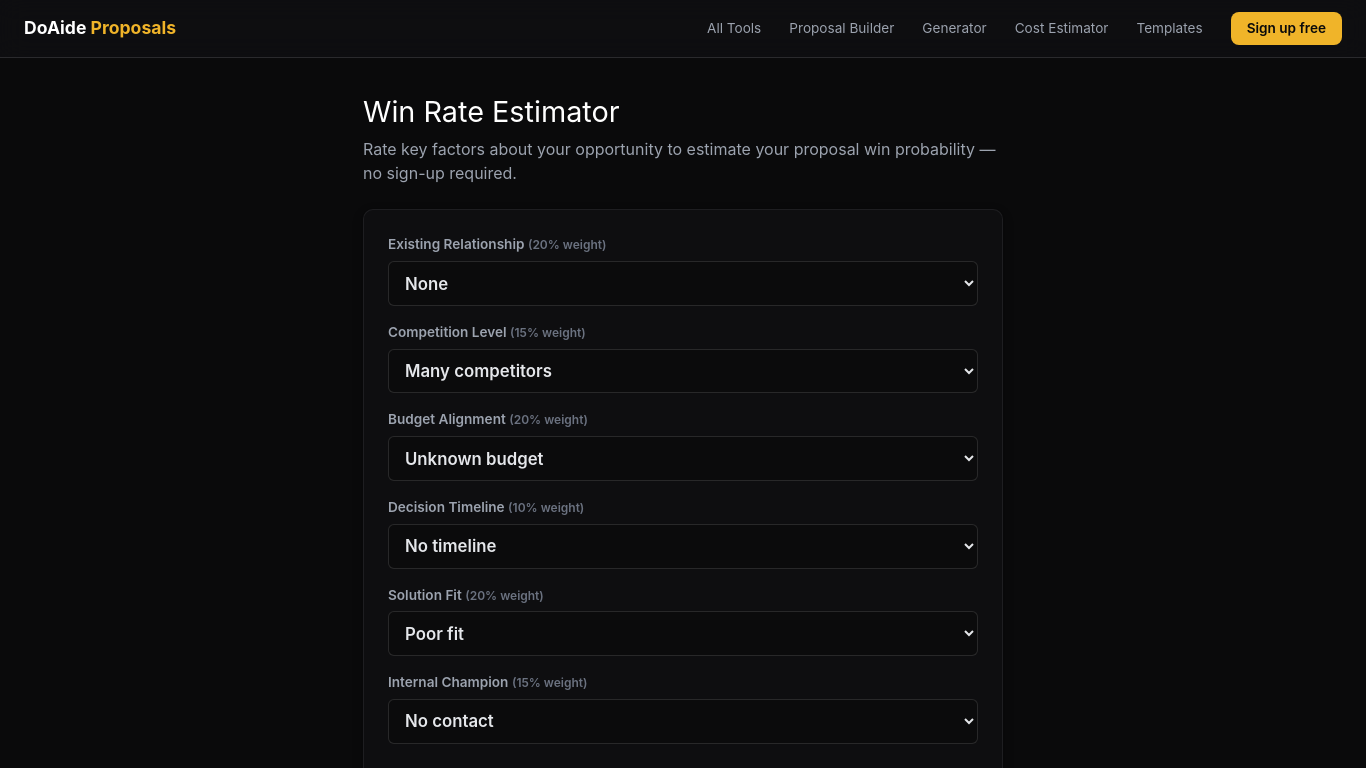
Scenario: WinRateEstimatorPage › updates win rate when factors change
Select "Existing client" in the dropdown labelled "Existing Relationship (20% weight)" at (683, 284), box [388,261,978,306]
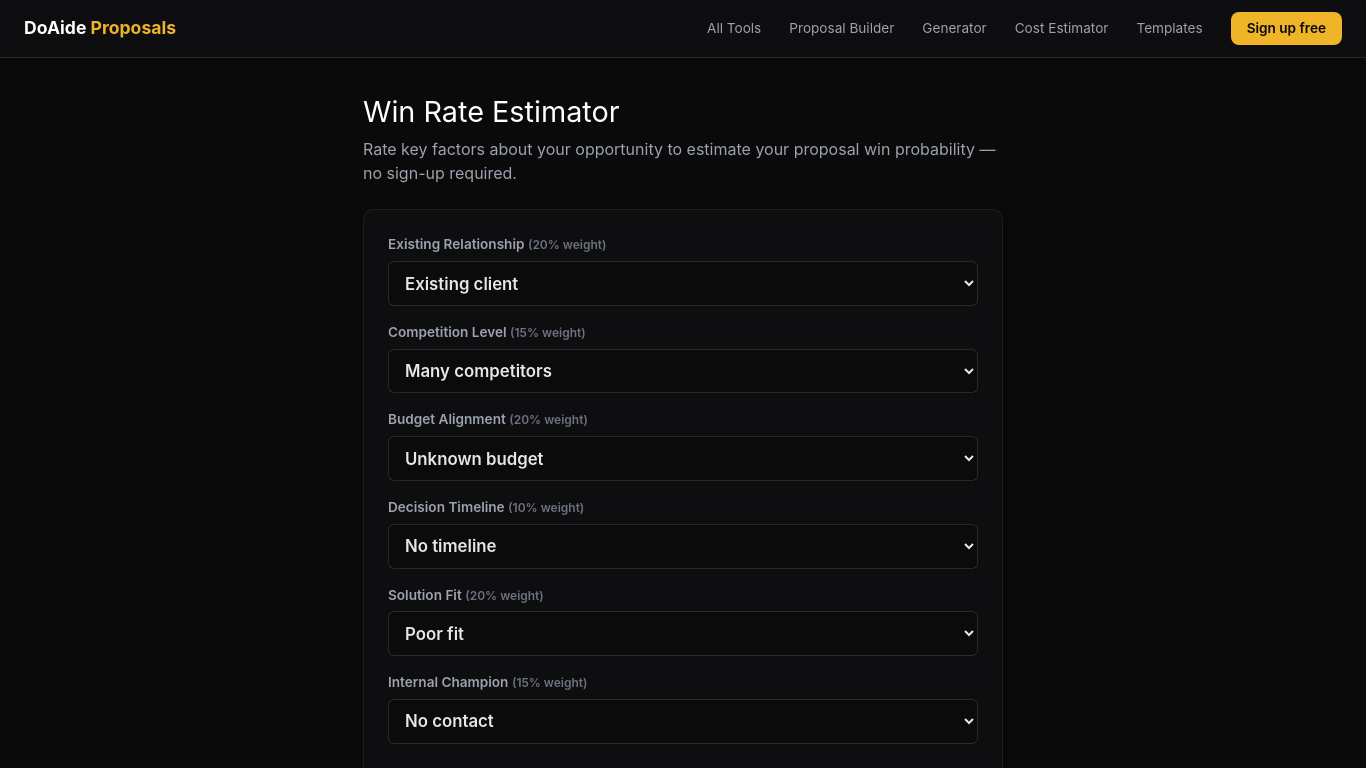
Select "Sole source" in the dropdown labelled "Competition Level (15% weight)" at (683, 371), box [388,349,978,394]
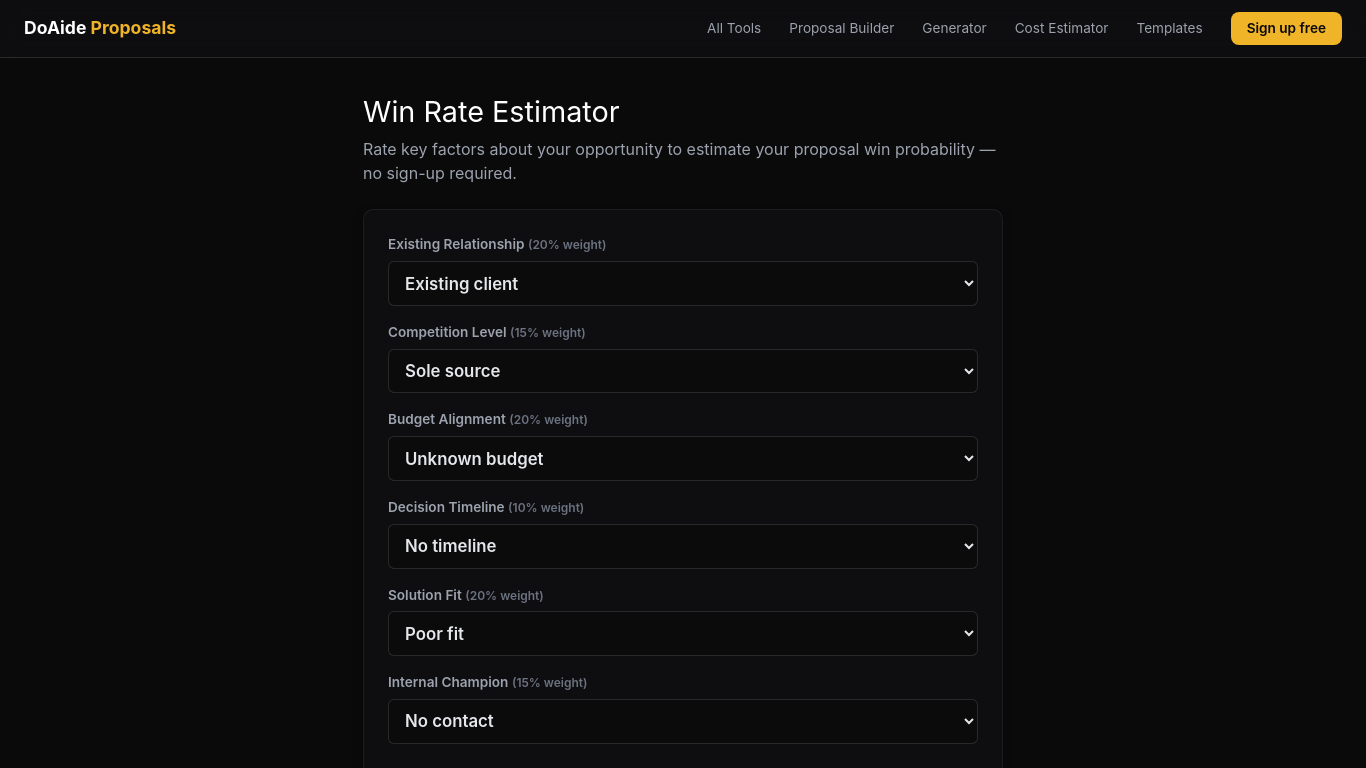
Select "Within budget" in the dropdown labelled "Budget Alignment (20% weight)" at (683, 459), box [388,436,978,481]
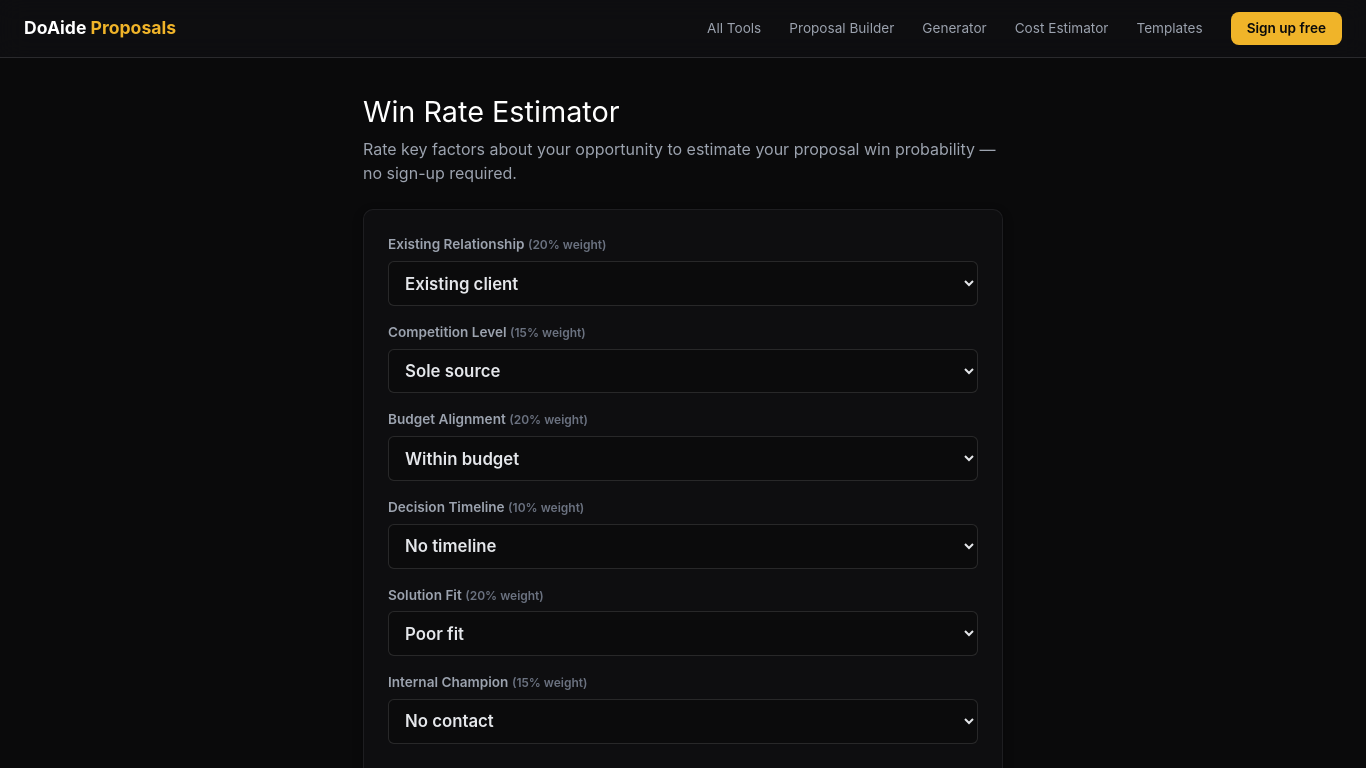
Select "Under 1 month" in the dropdown labelled "Decision Timeline (10% weight)" at (683, 546), box [388,524,978,569]
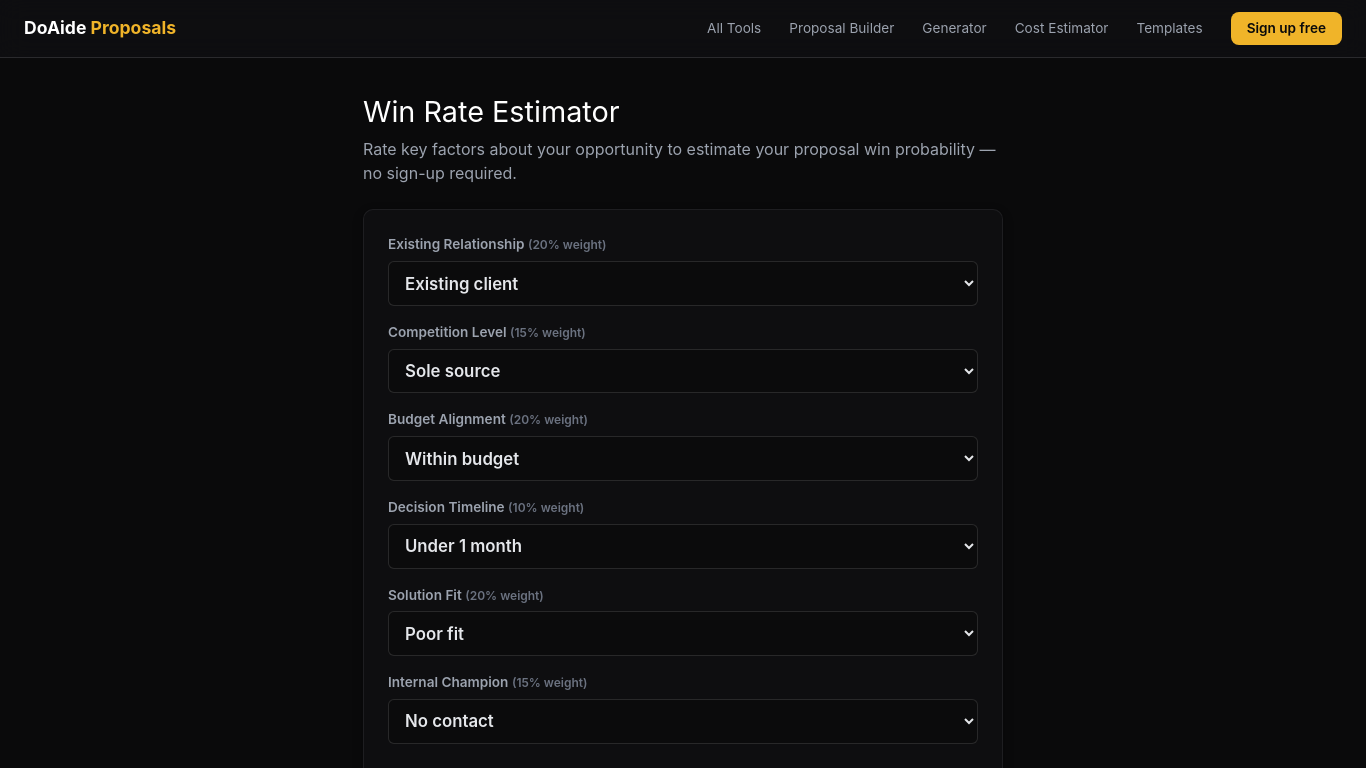
Select "Perfect fit" in the dropdown labelled "Solution Fit (20% weight)" at (683, 634), box [388,611,978,656]
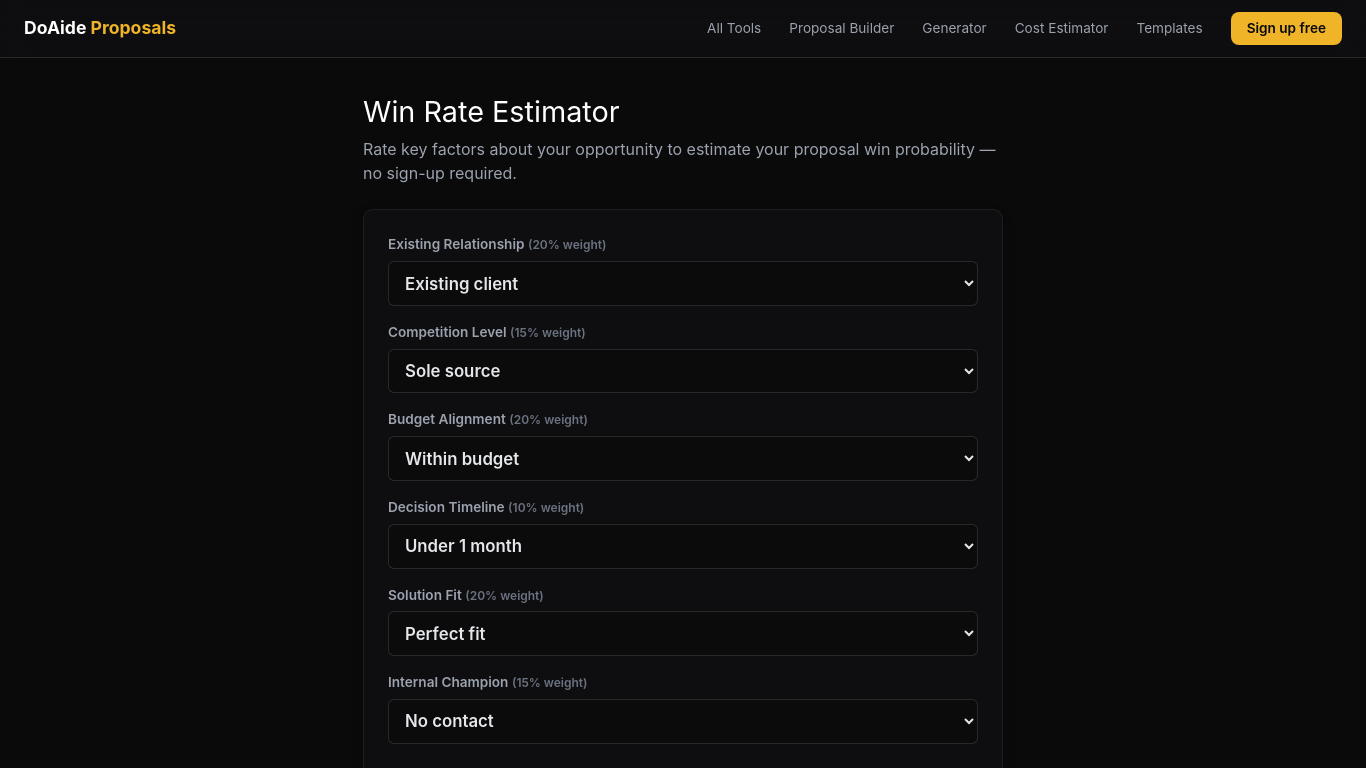
Select "Decision maker" in the dropdown labelled "Internal Champion (15% weight)" at (683, 721), box [388,699,978,744]
(page scrolled)
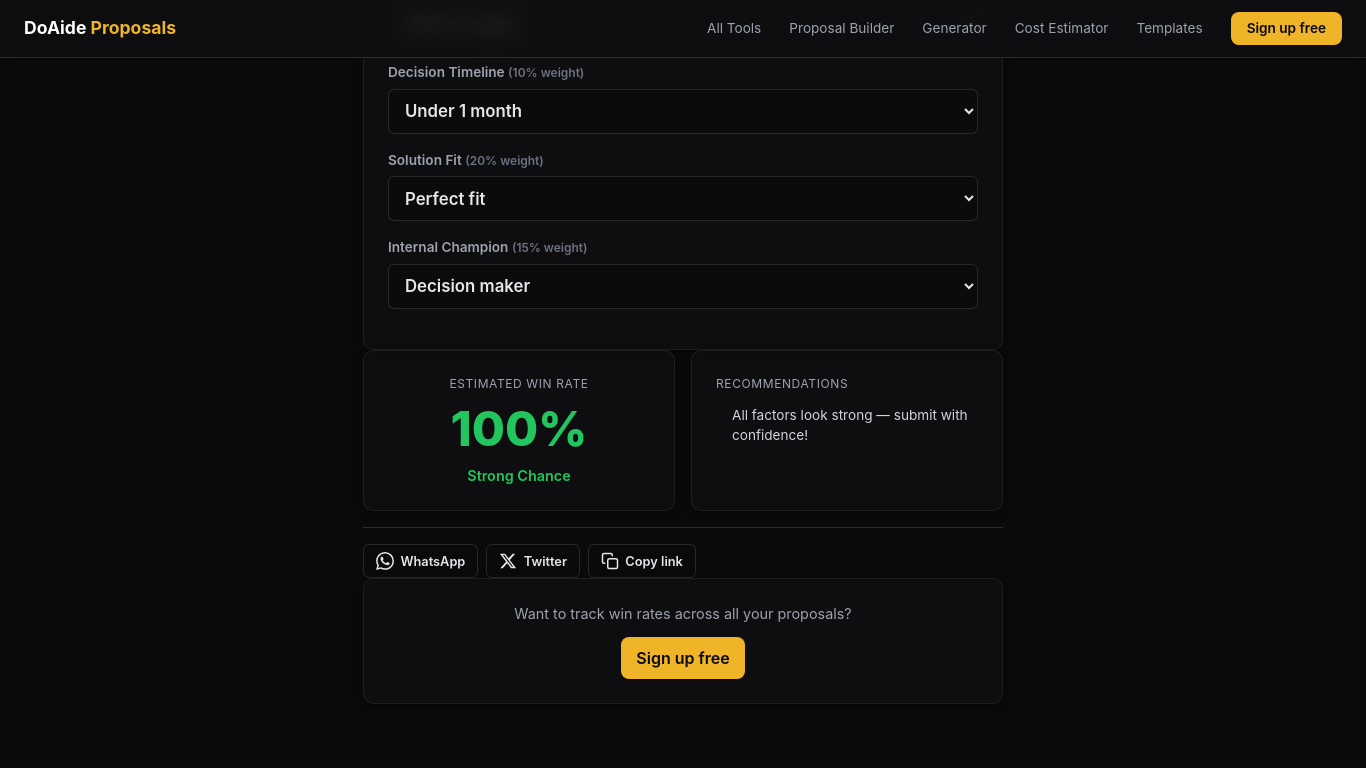
Expected: the text "100%" is shown, [450,399,588,458]
